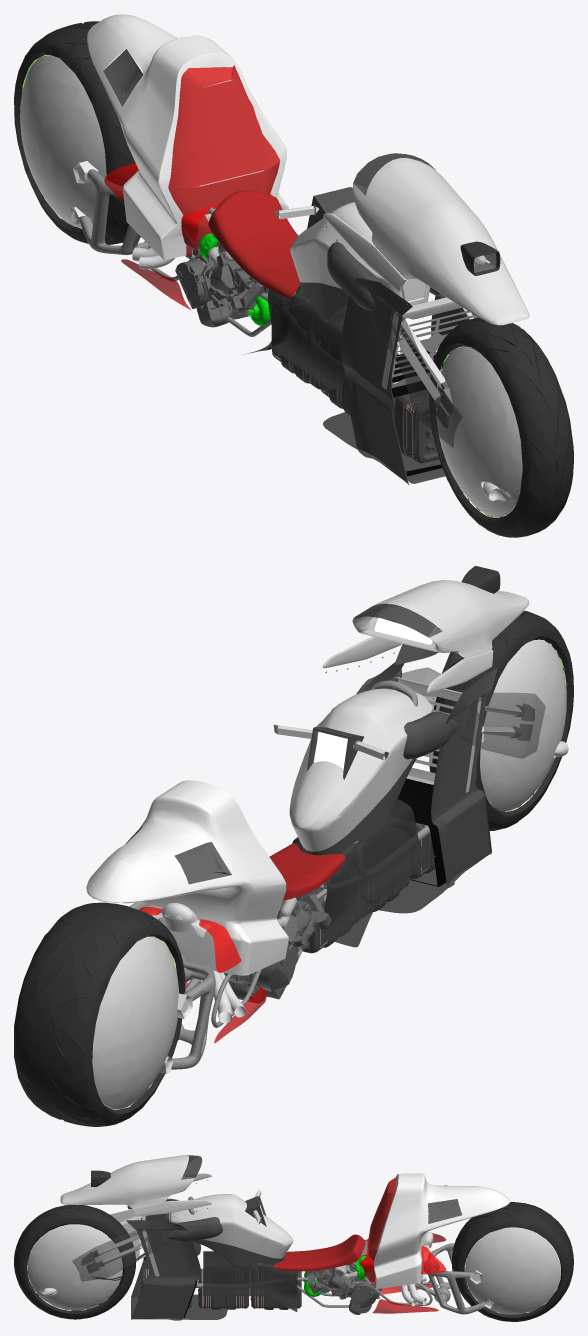
File: bike.akira.lod0.bb13b20883.glb
3 renders of one model, top to bottom at view 1: azimuth 30°, elevation 25°; view 2: azimuth 150°, elevation 25°; view 3: azimuth 270°, elevation 25°, orthographic. The views are drawn at different scales.
Visible parts, largest first — view 1: akira_body, Tire, Tire.001; view 2: akira_body, Tire.001, Tire; view 3: akira_body, Tire.001, Tire.
Boxes of the visible parts, box(x1,y1,x2,y2) form: akira_body: box(20, 14, 529, 516); Tire: box(429, 317, 573, 537); Tire.001: box(14, 21, 141, 244); akira_body: box(86, 566, 568, 1109); Tire.001: box(14, 902, 185, 1126); Tire: box(429, 611, 573, 830); akira_body: box(27, 1155, 560, 1320); Tire.001: box(452, 1202, 573, 1321); Tire: box(14, 1205, 135, 1319).
Size of the model in its own units: 0.4223 by 0.914 by 2.9.
